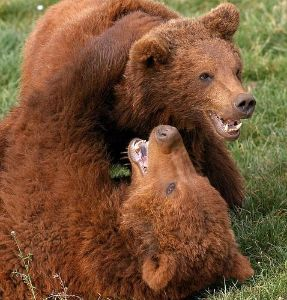bear: (10, 106, 249, 290), (34, 1, 263, 140)
